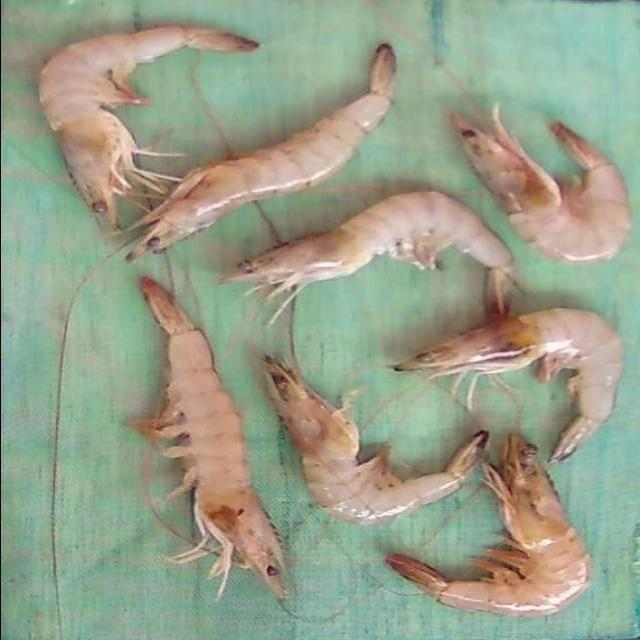shrimp: (127, 43, 395, 259), (131, 277, 285, 599), (37, 24, 257, 228), (263, 358, 489, 525), (387, 434, 590, 617), (392, 308, 622, 463), (222, 190, 514, 297), (451, 107, 630, 263)
